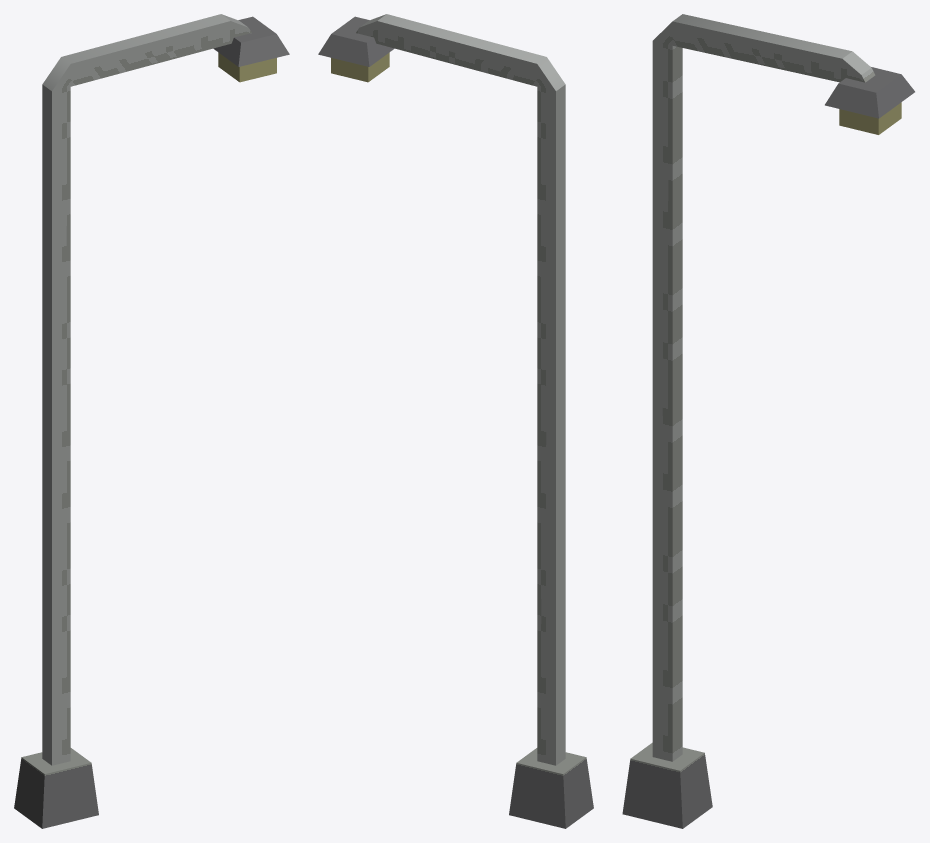
File: env_streetlight_standard_medium.glb
3 renders of one model, left to right at view 1: azimuth 30°, elevation 25°; view 2: azimuth 150°, elevation 25°; view 3: azimuth 330°, elevation 25°, orthographic. The views are drawn at different scales.
Parts seen in each view (by area): view 1: env_streetlight_standard_medium; view 2: env_streetlight_standard_medium; view 3: env_streetlight_standard_medium.
Part boxes in pixels (x1=…): env_streetlight_standard_medium: x1=14, y1=14, x2=289, y2=828; env_streetlight_standard_medium: x1=318, y1=14, x2=593, y2=828; env_streetlight_standard_medium: x1=622, y1=14, x2=914, y2=828.
Bounding box in the file's own units: 0.00568 × 0.0167 × 0.00138.
1 material, 1 textured.
